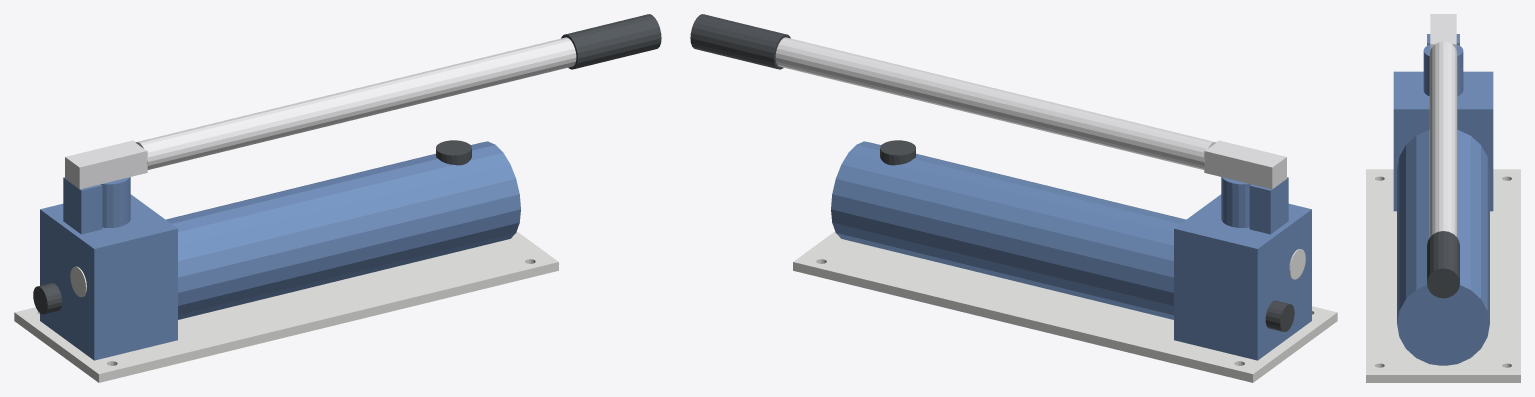
File: pump-hand-hyd.glb
3 renders of one model, left to right at view 1: azimuth 30°, elevation 25°; view 2: azimuth 150°, elevation 25°; view 3: azimuth 270°, elevation 25°, orthographic. The views are drawn at different scales.
Parts seen in each view (by area): view 1: body, lever, knob; view 2: body, lever, knob; view 3: body, lever.
Boxes of the visible parts, left/top/right/bottom form: body: left=14, top=140, right=558, bottom=382; lever: left=65, top=14, right=661, bottom=189; knob: left=33, top=283, right=62, bottom=314; body: left=793, top=140, right=1337, bottom=382; lever: left=690, top=14, right=1286, bottom=189; knob: left=1265, top=300, right=1294, bottom=331; body: left=1366, top=34, right=1520, bottom=382; lever: left=1427, top=14, right=1459, bottom=298.
Size of what is drawn, in the model's own units: 0.574 by 0.175 by 0.14.
